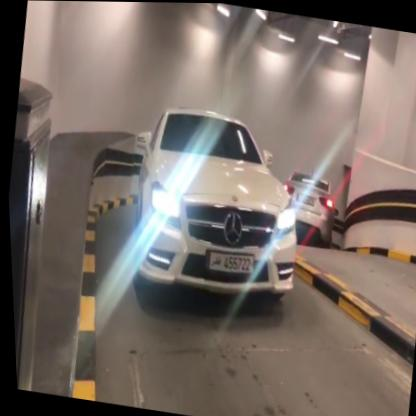np: (197, 240, 257, 280)
